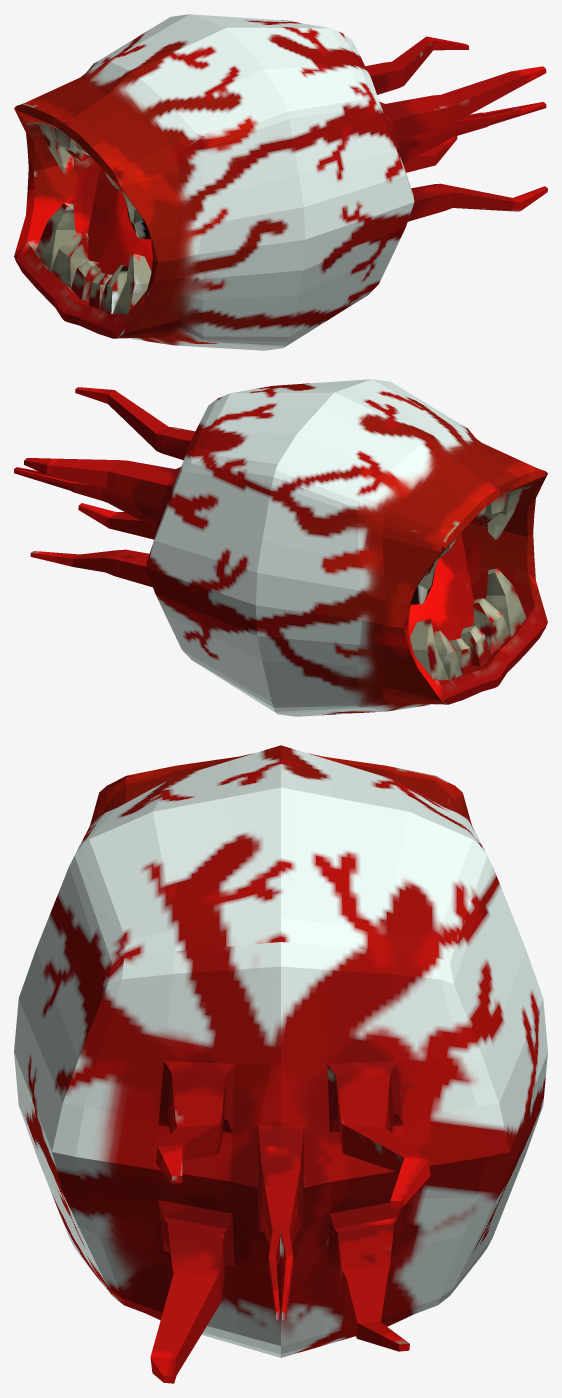
The model's file is eye.obj.
The picture shows the model from 3 angles, top to bottom: view 1: azimuth 30°, elevation 25°; view 2: azimuth 150°, elevation 25°; view 3: azimuth 270°, elevation 25°; orthographic projection. The views are drawn at different scales.
Visible parts, largest first — view 1: Cube; view 2: Cube; view 3: Cube.
Boxes of the visible parts, x1,y1,x2,y2 form: Cube: (14,14,547,350); Cube: (14,379,547,716); Cube: (14,745,547,1383).
Size of the model in its own units: 2.44 by 1.5 by 1.37.
Materials: 1 (1 with a texture image).
